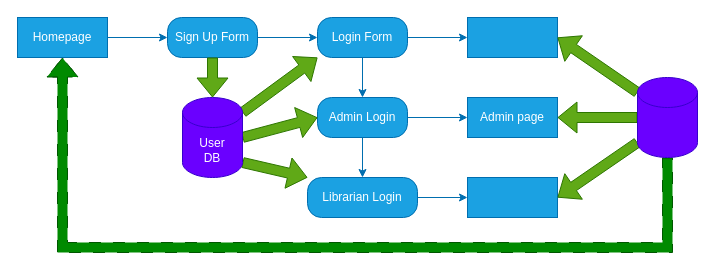
The diagram is 715 pixels wide and 270 high, and some of its shapes have lost their labels. Here are the shapes that lost their labels. From the top down, the centre of each, then its label:
At (x=512, y=37): "Library page".
At (x=667, y=117): "Books DB".
At (x=512, y=197): "Librarian page".
